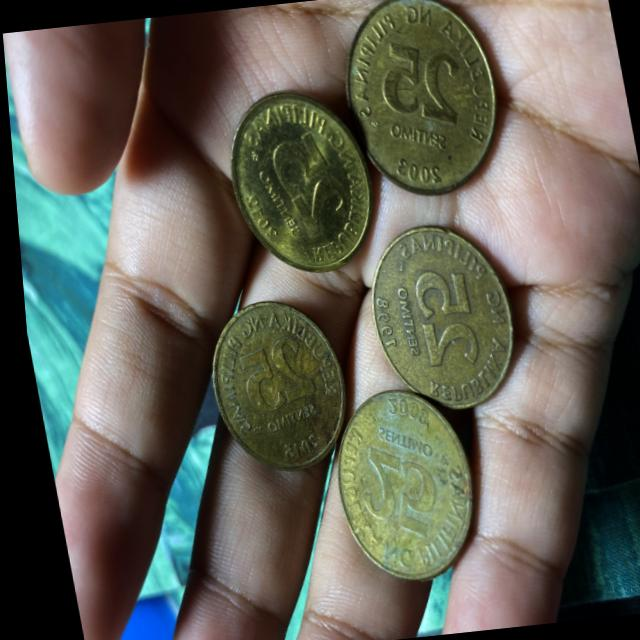25Cent_Old_Front: (345, 440, 440, 542), (371, 35, 466, 135), (265, 130, 346, 232), (403, 266, 477, 372), (230, 331, 306, 412)
